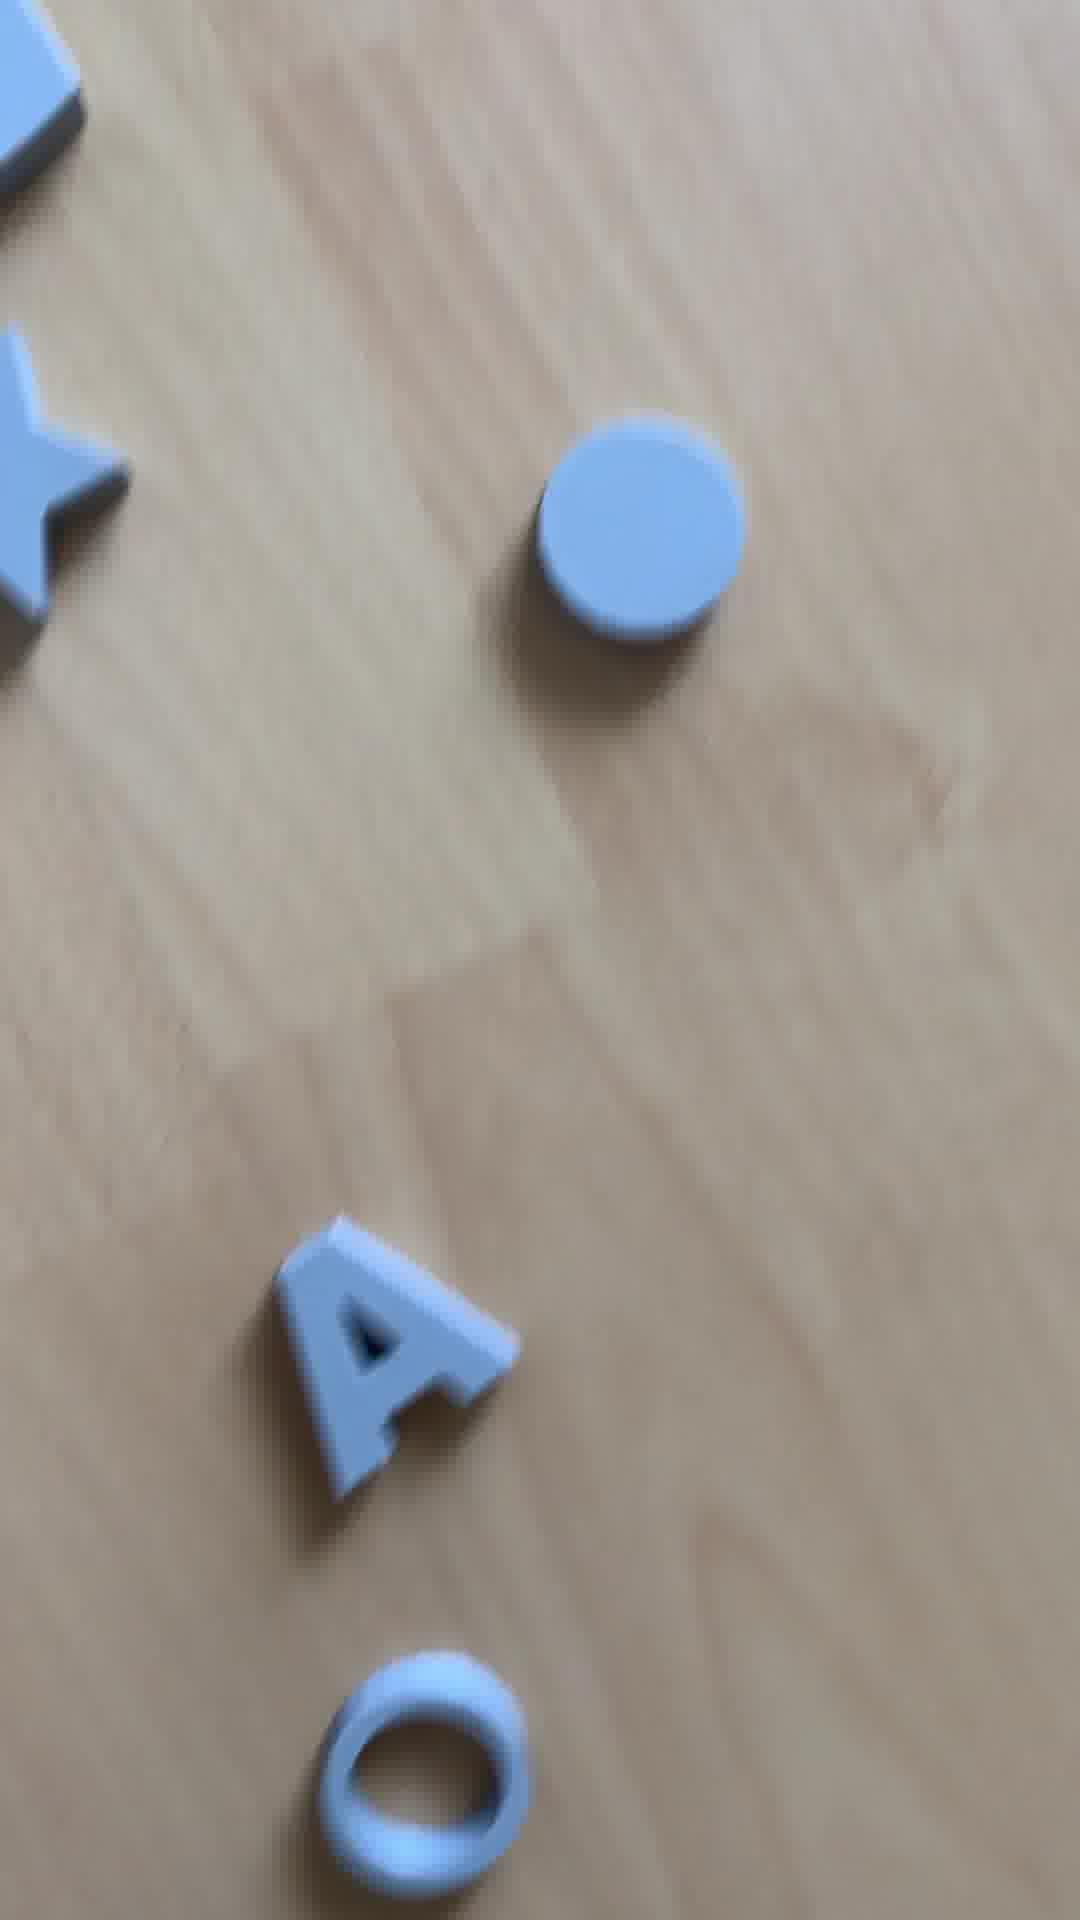Gray A-letter: (256, 1204, 535, 1495)
Gray circle: (535, 407, 760, 640)
Gray ring: (301, 1650, 558, 1884)
Gray star: (1, 320, 162, 620)
